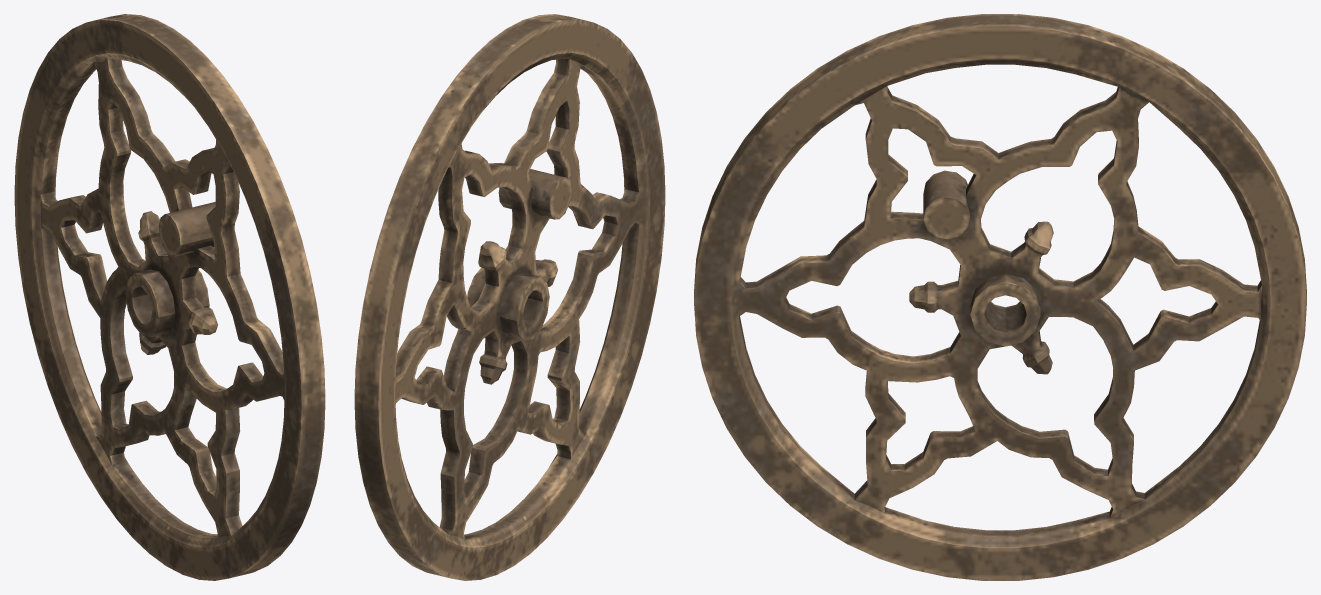
File: SM_SteampunkGear1.fbx
3 views of the same model, side by side, from view 1: azimuth 30°, elevation 25°; view 2: azimuth 150°, elevation 25°; view 3: azimuth 270°, elevation 25° (orthographic). The views are drawn at different scales.
Visible parts, largest first — view 1: SM_SteampunkGear1_LOD0; view 2: SM_SteampunkGear1_LOD0; view 3: SM_SteampunkGear1_LOD0.
Boxes of the visible parts, left/top/right/bottom form: SM_SteampunkGear1_LOD0: left=14, top=14, right=325, bottom=580; SM_SteampunkGear1_LOD0: left=354, top=14, right=665, bottom=580; SM_SteampunkGear1_LOD0: left=694, top=14, right=1306, bottom=580.
Bounding box in the file's own units: 8.33 × 81 × 80.87.
1 material, 1 textured.
